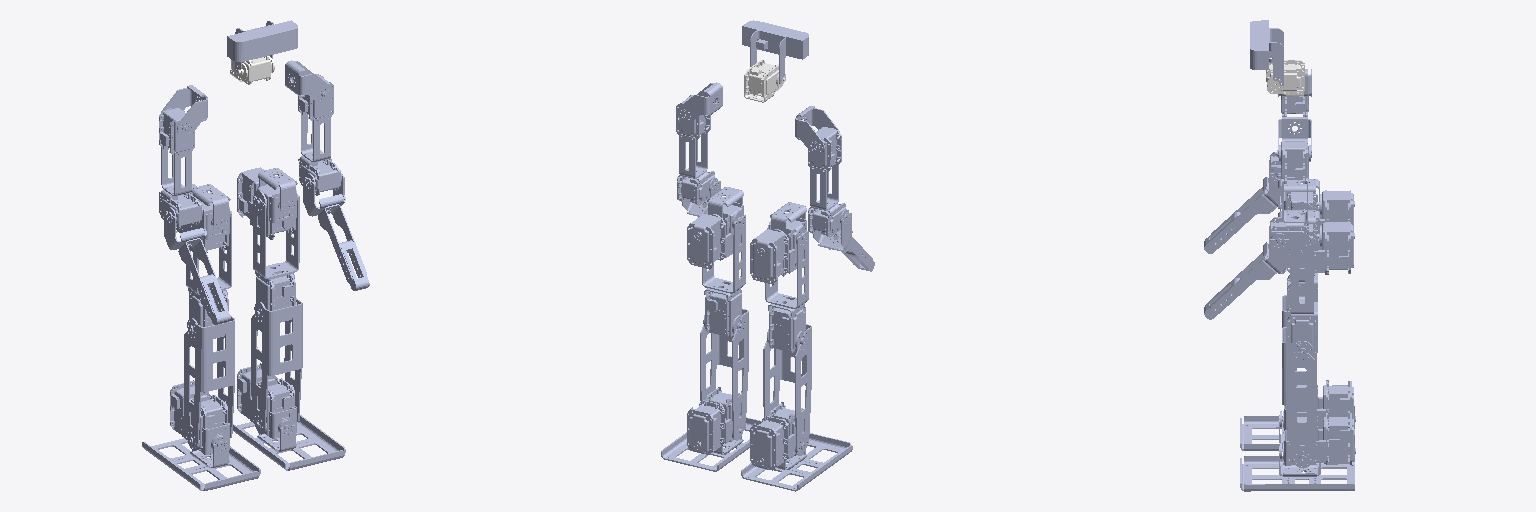
--- What the picture shows (computed from the rendered views, not written in the file) ---
3 views of the same robot in one strip: view 1: azimuth 30°, elevation 25°; view 2: azimuth 150°, elevation 25°; view 3: azimuth 270°, elevation 25° (orthographic).
Robot: full_assemandframe01.SLDASM — 21 links, 20 joints (20 continuous); root link body; default pose: every joint at zero.
Links seen in each view (by area): view 1: L5, R5, AR3, L4, AL3, R7, L7, AL4, AR4, L6, R6, L3 (+8 smaller); view 2: AR3, R5, L4, L5, R4, AL3, R3, L3, R6, L6, R7, H3 (+7 smaller); view 3: L5, L7, L4, AL3, L6, AL4, L3, AR4, R3, H3, R6, R7 (+3 smaller).
Boxes of the visible links, x1,y1,x2,y2 form: L5: (251,298,302,429); R5: (184,315,234,446); AR3: (159,108,203,229); L4: (253,195,299,322); AL3: (298,74,342,195); R7: (142,438,260,490); L7: (233,415,345,470); AL4: (303,175,369,290); AR4: (164,209,230,324); L6: (237,363,296,438); R6: (170,380,229,454); L3: (237,167,297,239); AR3: (808,127,848,237); R5: (763,324,811,451); L4: (702,215,745,336); L5: (700,309,748,436); R4: (765,231,808,352); AL3: (676,95,717,205); R3: (750,218,806,285); L3: (687,202,743,269); R6: (750,402,806,470); L6: (687,387,743,454); R7: (741,433,852,491); H3: (742,20,808,83); L5: (1282,327,1316,460); L7: (1240,446,1354,491); L4: (1287,242,1317,359); AL3: (1270,141,1311,251); L6: (1279,412,1355,467); AL4: (1204,226,1288,319); L3: (1287,222,1354,274); AR4: (1204,160,1281,253); R3: (1280,190,1354,238); H3: (1250,20,1283,85); R6: (1279,380,1355,430); R7: (1240,416,1354,450).
Size in the robot's own frame: 0.2516 by 0.1979 by 0.6097 metres.
Meshes: 21 distinct files referenced, 20 mesh visuals loaded (20 binary STL); not drawn: 1 (reference not matched to a file when rendering).

The robot description file, URDF, robot "full_assemandframe01.SLDASM":
<?xml version="1.0" encoding="utf-8"?>
<!-- This URDF was automatically created by SolidWorks to URDF Exporter! Originally created by Stephen Brawner ([email redacted]) 
     Commit Version: 1.6.0-4-g7f85cfe  Build Version: 1.6.7995.38578
     For more information, please see http://wiki.ros.org/sw_urdf_exporter -->
<robot
  name="full_assemandframe01.SLDASM">
  <link
    name="body">
    <inertial>
      <origin
        xyz="-0.00041783 -0.062352 -0.011079"
        rpy="0 0 0" />
      <mass
        value="1.0275" />
      <inertia
        ixx="0.00096224"
        ixy="-1.7543E-09"
        ixz="-1.3676E-09"
        iyy="0.0014276"
        iyz="-7.2992E-06"
        izz="0.0010373" />
    </inertial>
    <visual>
      <origin
        xyz="0 0 0"
        rpy="0 0 0" />
      <geometry>
        <mesh
          filename="package://meshes/body.STL" />
      </geometry>
      <material
        name="">
        <color
          rgba="0.79216 0.81961 0.93333 1" />
      </material>
    </visual>
    <collision>
      <origin
        xyz="0 0 0"
        rpy="0 0 0" />
      <geometry>
        <mesh
          filename="package://meshes/body.STL" />
      </geometry>
    </collision>
  </link>
  <link
    name="R2">
    <inertial>
      <origin
        xyz="5.1195E-12 -0.007935 0.0049359"
        rpy="0 0 0" />
      <mass
        value="0.0059458" />
      <inertia
        ixx="2.941E-06"
        ixy="-2.483E-16"
        ixz="-3.9623E-15"
        iyy="2.9244E-06"
        iyz="-3.8274E-08"
        izz="9.8493E-07" />
    </inertial>
    <visual>
      <origin
        xyz="0 0 0"
        rpy="0 0 0" />
      <geometry>
        <mesh
          filename="package://meshes/R2.STL" />
      </geometry>
      <material
        name="">
        <color
          rgba="0.79216 0.81961 0.93333 1" />
      </material>
    </visual>
    <collision>
      <origin
        xyz="0 0 0"
        rpy="0 0 0" />
      <geometry>
        <mesh
          filename="package://meshes/R2.STL" />
      </geometry>
    </collision>
  </link>
  <joint
    name="JR1"
    type="continuous">
    <origin
      xyz="-0.049 0.010409 -0.13257"
      rpy="1.5739 0 0" />
    <parent
      link="body" />
    <child
      link="R2" />
    <axis
      xyz="0 1 0" />
  </joint>
  <link
    name="R3">
    <inertial>
      <origin
        xyz="-2.3368E-05 -0.01515 -0.020816"
        rpy="0 0 0" />
      <mass
        value="0.15544" />
      <inertia
        ixx="5.5826E-05"
        ixy="-8.8929E-07"
        ixz="-1.7363E-21"
        iyy="3.4649E-05"
        iyz="-8.7464E-07"
        izz="5.6133E-05" />
    </inertial>
    <visual>
      <origin
        xyz="0 0 0"
        rpy="0 0 0" />
      <geometry>
        <mesh
          filename="package://meshes/R3.STL" />
      </geometry>
      <material
        name="">
        <color
          rgba="0.79216 0.81961 0.93333 1" />
      </material>
    </visual>
    <collision>
      <origin
        xyz="0 0 0"
        rpy="0 0 0" />
      <geometry>
        <mesh
          filename="package://meshes/R3.STL" />
      </geometry>
    </collision>
  </link>
  <joint
    name="JR2"
    type="continuous">
    <origin
      xyz="0 -0.0315 0"
      rpy="0 0 0" />
    <parent
      link="R2" />
    <child
      link="R3" />
    <axis
      xyz="0 0 1" />
  </joint>
  <link
    name="R4">
    <inertial>
      <origin
        xyz="-3.71560602003829E-05 -0.109884425270415 0.0645015204124353"
        rpy="0 0 0" />
      <mass
        value="0.0896499629130446" />
      <inertia
        ixx="4.16009895691136E-05"
        ixy="7.61363341609648E-07"
        ixz="-4.44448874012525E-07"
        iyy="3.2411070646171E-05"
        iyz="1.15463620151377E-05"
        izz="4.57659420239507E-05" />
    </inertial>
    <visual>
      <origin
        xyz="0 0 0"
        rpy="0 0 0" />
      <geometry>
        <mesh
          filename="package://meshes/R4.STL" />
      </geometry>
      <material
        name="">
        <color
          rgba="0.792156862745098 0.819607843137255 0.933333333333333 1" />
      </material>
    </visual>
    <collision>
      <origin
        xyz="0 0 0"
        rpy="0 0 0" />
      <geometry>
        <mesh
          filename="package://meshes/R4.STL" />
      </geometry>
    </collision>
  </link>
  <joint
    name="JR3"
    type="continuous">
    <origin
      xyz="0 0 0"
      rpy="0.5236 0 0" />
    <parent
      link="R3" />
    <child
      link="R4" />
    <axis
      xyz="1 0 0" />
  </joint>
  <link
    name="R5">
    <inertial>
      <origin
        xyz="2.35922392732846E-16 -0.0581603167117033 -0.0234974642851387"
        rpy="0 0 0" />
      <mass
        value="0.0272654512429997" />
      <inertia
        ixx="6.43959167351521E-05"
        ixy="2.27606766001115E-20"
        ixz="4.57758707260766E-20"
        iyy="3.91420033245628E-05"
        iyz="-2.60653220840411E-05"
        izz="5.28423727848243E-05" />
    </inertial>
    <visual>
      <origin
        xyz="0 0 0"
        rpy="0 0 0" />
      <geometry>
        <mesh
          filename="package://meshes/R5.STL" />
      </geometry>
      <material
        name="">
        <color
          rgba="0.792156862745098 0.819607843137255 0.933333333333333 1" />
      </material>
    </visual>
    <collision>
      <origin
        xyz="0 0 0"
        rpy="0 0 0" />
      <geometry>
        <mesh
          filename="package://meshes/R5.STL" />
      </geometry>
    </collision>
  </link>
  <joint
    name="JR4"
    type="continuous">
    <origin
      xyz="0 -0.13373 0.078366"
      rpy="-1.0472 0 0" />
    <parent
      link="R4" />
    <child
      link="R5" />
    <axis
      xyz="1 0 0" />
  </joint>
  <link
    name="R6">
    <inertial>
      <origin
        xyz="-1.94903609577537E-05 0.0144662621171153 -0.0218201673886669"
        rpy="0 0 0" />
      <mass
        value="0.15544328108956" />
      <inertia
        ixx="5.58260684034127E-05"
        ixy="8.73883694619815E-07"
        ixz="-1.06078061493619E-20"
        iyy="3.46492828581795E-05"
        iyz="8.90044715309909E-07"
        izz="5.61332220076912E-05" />
    </inertial>
    <visual>
      <origin
        xyz="0 0 0"
        rpy="0 0 0" />
      <geometry>
        <mesh
          filename="package://meshes/R6.STL" />
      </geometry>
      <material
        name="">
        <color
          rgba="0.792156862745098 0.819607843137255 0.933333333333333 1" />
      </material>
    </visual>
    <collision>
      <origin
        xyz="0 0 0"
        rpy="0 0 0" />
      <geometry>
        <mesh
          filename="package://meshes/R6.STL" />
      </geometry>
    </collision>
  </link>
  <joint
    name="JR5"
    type="continuous">
    <origin
      xyz="0 -0.13423 -0.0775"
      rpy="0.5236 0 0" />
    <parent
      link="R5" />
    <child
      link="R6" />
    <axis
      xyz="1 0 0" />
  </joint>
  <link
    name="R7">
    <inertial>
      <origin
        xyz="-0.0103682525758409 -0.0291524556567055 0.00946030945951293"
        rpy="0 0 0" />
      <mass
        value="0.0293701270577348" />
      <inertia
        ixx="5.27259611745445E-05"
        ixy="-2.48306178311266E-16"
        ixz="3.96226789627106E-15"
        iyy="7.6269660952646E-05"
        iyz="-4.07692845377782E-07"
        izz="2.5034690010458E-05" />
    </inertial>
    <visual>
      <origin
        xyz="0 0 0"
        rpy="0 0 0" />
      <geometry>
        <mesh
          filename="package://meshes/R7.STL" />
      </geometry>
      <material
        name="">
        <color
          rgba="0.792156862745098 0.819607843137255 0.933333333333333 1" />
      </material>
    </visual>
    <collision>
      <origin
        xyz="0 0 0"
        rpy="0 0 0" />
      <geometry>
        <mesh
          filename="package://meshes/R7.STL" />
      </geometry>
    </collision>
  </link>
  <joint
    name="JR6"
    type="continuous">
    <origin
      xyz="0 0 0"
      rpy="0 0 0" />
    <parent
      link="R6" />
    <child
      link="R7" />
    <axis
      xyz="0 0 1" />
  </joint>
  <link
    name="L2">
    <inertial>
      <origin
        xyz="5.11962694460522E-12 -0.00793496897620852 0.00493585010633513"
        rpy="0 0 0" />
      <mass
        value="0.00594575048168081" />
      <inertia
        ixx="2.94097568011264E-06"
        ixy="-2.48305668347206E-16"
        ixz="-3.96228856303345E-15"
        iyy="2.92441644469775E-06"
        iyz="-3.827449871227E-08"
        izz="9.84929527953606E-07" />
    </inertial>
    <visual>
      <origin
        xyz="0 0 0"
        rpy="0 0 0" />
      <geometry>
        <mesh
          filename="package://meshes/L2.STL" />
      </geometry>
      <material
        name="">
        <color
          rgba="0.792156862745098 0.819607843137255 0.933333333333333 1" />
      </material>
    </visual>
    <collision>
      <origin
        xyz="0 0 0"
        rpy="0 0 0" />
      <geometry>
        <mesh
          filename="package://meshes/L2.STL" />
      </geometry>
    </collision>
  </link>
  <joint
    name="JL1"
    type="continuous">
    <origin
      xyz="0.049 0.010409 -0.13257"
      rpy="1.5739 0 0" />
    <parent
      link="body" />
    <child
      link="L2" />
    <axis
      xyz="0 1 0" />
  </joint>
  <link
    name="L3">
    <inertial>
      <origin
        xyz="1.9490360957948E-05 -0.0151499843579775 -0.0208201673886668"
        rpy="0 0 0" />
      <mass
        value="0.15544328108956" />
      <inertia
        ixx="5.58260684034127E-05"
        ixy="8.73883694619815E-07"
        ixz="7.37775671905169E-21"
        iyy="3.46492828581794E-05"
        iyz="-8.90044715309545E-07"
        izz="5.61332220076912E-05" />
    </inertial>
    <visual>
      <origin
        xyz="0 0 0"
        rpy="0 0 0" />
      <geometry>
        <mesh
          filename="package://meshes/L3.STL" />
      </geometry>
      <material
        name="">
        <color
          rgba="0.792156862745098 0.819607843137255 0.933333333333333 1" />
      </material>
    </visual>
    <collision>
      <origin
        xyz="0 0 0"
        rpy="0 0 0" />
      <geometry>
        <mesh
          filename="package://meshes/L3.STL" />
      </geometry>
    </collision>
  </link>
  <joint
    name="JL2"
    type="continuous">
    <origin
      xyz="0 -0.0315 0"
      rpy="0 0 0" />
    <parent
      link="L2" />
    <child
      link="L3" />
    <axis
      xyz="0 0 1" />
  </joint>
  <link
    name="L4">
    <inertial>
      <origin
        xyz="3.71560602005702E-05 0.0630194871166001 0.104414323766192"
        rpy="0 0 0" />
      <mass
        value="0.0896499629130445" />
      <inertia
        ixx="4.16009895691135E-05"
        ixy="5.02197314697276E-07"
        ixz="7.24573527441376E-07"
        iyy="4.36739646160413E-05"
        iyz="-1.25252037868802E-05"
        izz="3.45030480540803E-05" />
    </inertial>
    <visual>
      <origin
        xyz="0 0 0"
        rpy="0 0 0" />
      <geometry>
        <mesh
          filename="package://meshes/L4.STL" />
      </geometry>
      <material
        name="">
        <color
          rgba="0.792156862745098 0.819607843137255 0.933333333333333 1" />
      </material>
    </visual>
    <collision>
      <origin
        xyz="0 0 0"
        rpy="0 0 0" />
      <geometry>
        <mesh
          filename="package://meshes/L4.STL" />
      </geometry>
    </collision>
  </link>
  <joint
    name="JL3"
    type="continuous">
    <origin
      xyz="0 -0.0057358 0.0091915"
      rpy="2.1817 0 0" />
    <parent
      link="L3" />
    <child
      link="L4" />
    <axis
      xyz="1 0 0" />
  </joint>
  <link
    name="L5">
    <inertial>
      <origin
        xyz="4.85722573273506E-16 -0.0183390437380094 0.0599869380999931"
        rpy="0 0 0" />
      <mass
        value="0.0272654512429999" />
      <inertia
        ixx="6.43959167351525E-05"
        ixy="6.5837365657827E-20"
        ixz="-1.38536606830353E-19"
        iyy="5.72644987666864E-05"
        iyz="2.44798091780557E-05"
        izz="3.47198773427011E-05" />
    </inertial>
    <visual>
      <origin
        xyz="0 0 0"
        rpy="0 0 0" />
      <geometry>
        <mesh
          filename="package://meshes/L5.STL" />
      </geometry>
      <material
        name="">
        <color
          rgba="0.792156862745098 0.819607843137255 0.933333333333333 1" />
      </material>
    </visual>
    <collision>
      <origin
        xyz="0 0 0"
        rpy="0 0 0" />
      <geometry>
        <mesh
          filename="package://meshes/L5.STL" />
      </geometry>
    </collision>
  </link>
  <joint
    name="JL4"
    type="continuous">
    <origin
      xyz="0 0.078904 0.12697"
      rpy="-1.0472 0 0" />
    <parent
      link="L4" />
    <child
      link="L5" />
    <axis
      xyz="1 0 0" />
  </joint>
  <link
    name="L6">
    <inertial>
      <origin
        xyz="2.33682225148149E-05 -0.0229940897785377 -0.0125097987045415"
        rpy="0 0 0" />
      <mass
        value="0.15544328108956" />
      <inertia
        ixx="5.58260684034126E-05"
        ixy="7.75063095128782E-08"
        ixz="8.85901171526323E-07"
        iyy="5.58181471321927E-05"
        iyz="-2.72667897496436E-06"
        izz="3.49643577336778E-05" />
    </inertial>
    <visual>
      <origin
        xyz="0 0 0"
        rpy="0 0 0" />
      <geometry>
        <mesh
          filename="package://meshes/L6.STL" />
      </geometry>
      <material
        name="">
        <color
          rgba="0.792156862745098 0.819607843137255 0.933333333333333 1" />
      </material>
    </visual>
    <collision>
      <origin
        xyz="0 0 0"
        rpy="0 0 0" />
      <geometry>
        <mesh
          filename="package://meshes/L6.STL" />
      </geometry>
    </collision>
  </link>
  <joint
    name="JL5"
    type="continuous">
    <origin
      xyz="0 -0.065506 0.14048"
      rpy="0.5236 0 0" />
    <parent
      link="L5" />
    <child
      link="L6" />
    <axis
      xyz="1 0 0" />
  </joint>
  <link
    name="L7">
    <inertial>
      <origin
        xyz="0.0103682525737677 0.0119651140515537 0.0282170014639998"
        rpy="0 0 0" />
      <mass
        value="0.0293701270577349" />
      <inertia
        ixx="5.27259611745444E-05"
        ixy="3.96875464577063E-15"
        ixz="-9.79294087641099E-17"
        iyy="2.54946722965885E-05"
        iyz="4.84992874343962E-06"
        izz="7.58096786665151E-05" />
    </inertial>
    <visual>
      <origin
        xyz="0 0 0"
        rpy="0 0 0" />
      <geometry>
        <mesh
          filename="package://meshes/L7.STL" />
      </geometry>
      <material
        name="">
        <color
          rgba="0.792156862745098 0.819607843137255 0.933333333333333 1" />
      </material>
    </visual>
    <collision>
      <origin
        xyz="0 0 0"
        rpy="0 0 0" />
      <geometry>
        <mesh
          filename="package://meshes/L7.STL" />
      </geometry>
    </collision>
  </link>
  <joint
    name="JL6"
    type="continuous">
    <origin
      xyz="0 0 0"
      rpy="0 0 0" />
    <parent
      link="L6" />
    <child
      link="L7" />
    <axis
      xyz="0 0.99619 -0.087156" />
  </joint>
  <link
    name="AR2">
    <inertial>
      <origin
        xyz="-0.0122215328030043 -0.00304504079535874 0.00046755664416805"
        rpy="0 0 0" />
      <mass
        value="0.00782111452958767" />
      <inertia
        ixx="3.46730290731849E-06"
        ixy="-3.56887654541805E-07"
        ixz="5.47990011683571E-08"
        iyy="3.44521472170541E-06"
        iyz="-2.06144819144966E-07"
        izz="2.13431503339268E-06" />
    </inertial>
    <visual>
      <origin
        xyz="0 0 0"
        rpy="0 0 0" />
      <geometry>
        <mesh
          filename="package://meshes/AR2.STL" />
      </geometry>
      <material
        name="">
        <color
          rgba="0.792156862745098 0.819607843137255 0.933333333333333 1" />
      </material>
    </visual>
    <collision>
      <origin
        xyz="0 0 0"
        rpy="0 0 0" />
      <geometry>
        <mesh
          filename="package://meshes/AR2.STL" />
      </geometry>
    </collision>
  </link>
  <joint
    name="JAR1"
    type="continuous">
    <origin
      xyz="-0.0665 0 -0.0001"
      rpy="1.7262 0 0" />
    <parent
      link="body" />
    <child
      link="AR2" />
    <axis
      xyz="1 0 0" />
  </joint>
  <link
    name="AR3">
    <inertial>
      <origin
        xyz="-0.0217424355782832 -0.0598709237463328 0.0138089346841776"
        rpy="0 0 0" />
      <mass
        value="0.097623535640491" />
      <inertia
        ixx="2.66927650742415E-05"
        ixy="-1.51414262049176E-06"
        ixz="-2.59340162798032E-07"
        iyy="2.29946667509428E-05"
        iyz="-4.51570937003064E-07"
        izz="2.16812046230082E-05" />
    </inertial>
    <visual>
      <origin
        xyz="0 0 0"
        rpy="0 0 0" />
      <geometry>
        <mesh
          filename="package://meshes/AR3.STL" />
      </geometry>
      <material
        name="">
        <color
          rgba="0.792156862745098 0.819607843137255 0.933333333333333 1" />
      </material>
    </visual>
    <collision>
      <origin
        xyz="0 0 0"
        rpy="0 0 0" />
      <geometry>
        <mesh
          filename="package://meshes/AR3.STL" />
      </geometry>
    </collision>
  </link>
  <joint
    name="JAR2"
    type="continuous">
    <origin
      xyz="-0.035 -0.019768322112152 0.00303536503079964"
      rpy="0.00863677948697105 0.0507435699806214 0.337108707096089" />
    <parent
      link="AR2" />
    <child
      link="AR3" />
    <axis
      xyz="0 0.151768251539982 0.988416105607601" />
  </joint>
  <link
    name="AR4">
    <inertial>
      <origin
        xyz="-0.0264395498118501 -0.0719680840946816 0.0249388613374165"
        rpy="0 0 0" />
      <mass
        value="0.0261806235165505" />
      <inertia
        ixx="1.29434109350166E-05"
        ixy="-2.0730856844392E-06"
        ixz="1.53907500063378E-06"
        iyy="8.49936634440967E-06"
        iyz="4.30753226979961E-06"
        izz="1.32076307428004E-05" />
    </inertial>
    <visual>
      <origin
        xyz="0 0 0"
        rpy="0 0 0" />
      <geometry>
        <mesh
          filename="package://meshes/AR4.STL" />
      </geometry>
      <material
        name="">
        <color
          rgba="0.792156862745098 0.819607843137255 0.933333333333333 1" />
      </material>
    </visual>
    <collision>
      <origin
        xyz="0 0 0"
        rpy="0 0 0" />
      <geometry>
        <mesh
          filename="package://meshes/AR4.STL" />
      </geometry>
    </collision>
  </link>
  <joint
    name="JAR3"
    type="continuous">
    <origin
      xyz="-0.0391688936407426 -0.105994321647765 0.0375212146577176"
      rpy="-0.401595058674256 0.131487536773221 -0.0485277151924821" />
    <parent
      link="AR3" />
    <child
      link="AR4" />
    <axis
      xyz="0.942500202763317 -0.330334175028508 0.0507217960973566" />
  </joint>
  <link
    name="AL2">
    <inertial>
      <origin
        xyz="0.0122215328030043 -0.00306297937268113 -0.000330212088565167"
        rpy="0 0 0" />
      <mass
        value="0.00782111452958769" />
      <inertia
        ixx="3.46730290731849E-06"
        ixy="3.58990108077455E-07"
        ixz="3.87018190261986E-08"
        iyy="3.46107948276651E-06"
        iyz="1.46447551999455E-07"
        izz="2.11845027233158E-06" />
    </inertial>
    <visual>
      <origin
        xyz="0 0 0"
        rpy="0 0 0" />
      <geometry>
        <mesh
          filename="package://meshes/AL2.STL" />
      </geometry>
      <material
        name="">
        <color
          rgba="0.792156862745098 0.819607843137255 0.933333333333333 1" />
      </material>
    </visual>
    <collision>
      <origin
        xyz="0 0 0"
        rpy="0 0 0" />
      <geometry>
        <mesh
          filename="package://meshes/AL2.STL" />
      </geometry>
    </collision>
  </link>
  <joint
    name="JAL1"
    type="continuous">
    <origin
      xyz="0.0665 0 -0.0001"
      rpy="1.4665 0 0" />
    <parent
      link="body" />
    <child
      link="AL2" />
    <axis
      xyz="1 0 0" />
  </joint>
  <link
    name="AL3">
    <inertial>
      <origin
        xyz="0.00729277157235911 -0.0647229266668686 -0.00238871067636881"
        rpy="0 0 0" />
      <mass
        value="0.097623535640491" />
      <inertia
        ixx="2.71510597381538E-05"
        ixy="5.4954535768441E-07"
        ixz="-2.77333925095466E-07"
        iyy="2.27195249459817E-05"
        iyz="-2.99771975663198E-07"
        izz="2.14980517640569E-05" />
    </inertial>
    <visual>
      <origin
        xyz="0 0 0"
        rpy="0 0 0" />
      <geometry>
        <mesh
          filename="package://meshes/AL3.STL" />
      </geometry>
      <material
        name="">
        <color
          rgba="0.792156862745098 0.819607843137255 0.933333333333333 1" />
      </material>
    </visual>
    <collision>
      <origin
        xyz="0 0 0"
        rpy="0 0 0" />
      <geometry>
        <mesh
          filename="package://meshes/AL3.STL" />
      </geometry>
    </collision>
  </link>
  <joint
    name="JAL2"
    type="continuous">
    <origin
      xyz="0.035 -0.0198847788687522 -0.00214372790736723"
      rpy="-0.000675234731490389 0.0120468245174906 -0.111983173268338" />
    <parent
      link="AL2" />
    <child
      link="AL3" />
    <axis
      xyz="0 0.107186395368361 -0.994238943437611" />
  </joint>
  <link
    name="AL4">
    <inertial>
      <origin
        xyz="0.00913578295485759 -0.0801031112896214 -0.000656322210190963"
        rpy="0 0 0" />
      <mass
        value="0.0261806235165505" />
      <inertia
        ixx="1.36552226908737E-05"
        ixy="8.94157570011036E-07"
        ixz="-2.43003115857642E-07"
        iyy="5.58775082486857E-06"
        iyz="1.98253938483778E-06"
        izz="1.54074345064843E-05" />
    </inertial>
    <visual>
      <origin
        xyz="0 0 0"
        rpy="0 0 0" />
      <geometry>
        <mesh
          filename="package://meshes/AL4.STL" />
      </geometry>
      <material
        name="">
        <color
          rgba="0.792156862745098 0.819607843137255 0.933333333333333 1" />
      </material>
    </visual>
    <collision>
      <origin
        xyz="0 0 0"
        rpy="0 0 0" />
      <geometry>
        <mesh
          filename="package://meshes/AL4.STL" />
      </geometry>
    </collision>
  </link>
  <joint
    name="JAL3"
    type="continuous">
    <origin
      xyz="0.0131719485348661 -0.118037455358604 0.00839636256129469"
      rpy="-0.491746944547984 -0.0544973559727831 0.00759729409276157" />
    <parent
      link="AL3" />
    <child
      link="AL4" />
    <axis
      xyz="0.993664326490195 0.111741162067576 0.0120465331350887" />
  </joint>
  <link
    name="H2">
    <inertial>
      <origin
        xyz="0 0 0"
        rpy="0 0 0" />
      <mass
        value="0" />
      <inertia
        ixx="0"
        ixy="0"
        ixz="0"
        iyy="0"
        iyz="0"
        izz="0" />
    </inertial>
    <visual>
      <origin
        xyz="0 0 0"
        rpy="0 0 0" />
      <geometry>
        <mesh
          filename="package://meshes/H2.STL" />
      </geometry>
      <material
        name="">
        <color
          rgba="1 1 1 1" />
      </material>
    </visual>
    <collision>
      <origin
        xyz="0 0 0"
        rpy="0 0 0" />
      <geometry>
        <mesh
          filename="package://meshes/H2.STL" />
      </geometry>
    </collision>
  </link>
  <joint
    name="JH1"
    type="continuous">
    <origin
      xyz="0 -6.32106971754079E-05 0.0204999025462992"
      rpy="1.57335367827389 0.00172268556231549 -0.592800435653726" />
    <parent
      link="body" />
    <child
      link="H2" />
    <axis
      xyz="0 1 0" />
  </joint>
  <link
    name="H3">
    <inertial>
      <origin
        xyz="0.036913632495691 -0.0261315077775538 0.0562881107039803"
        rpy="0 0 0" />
      <mass
        value="0.070189548920754" />
      <inertia
        ixx="2.26120241044407E-05"
        ixy="-3.16435657178402E-07"
        ixz="1.97667380621252E-05"
        iyy="5.32373444792001E-05"
        iyz="2.57216251711595E-08"
        izz="3.82682129648946E-05" />
    </inertial>
    <visual>
      <origin
        xyz="0 0 0"
        rpy="0 0 0" />
      <geometry>
        <mesh
          filename="package://meshes/H3.STL" />
      </geometry>
      <material
        name="">
        <color
          rgba="0.792156862745098 0.819607843137255 0.933333333333333 1" />
      </material>
    </visual>
    <collision>
      <origin
        xyz="0 0 0"
        rpy="0 0 0" />
      <geometry>
        <mesh
          filename="package://meshes/H3.STL" />
      </geometry>
    </collision>
  </link>
  <joint
    name="JH2"
    type="continuous">
    <origin
      xyz="0 0.01 0"
      rpy="-0.995509566645158 0.333454125428357 0.600667945155879" />
    <parent
      link="H2" />
    <child
      link="H3" />
    <axis
      xyz="0.829378138941034 0 -0.558687661083281" />
  </joint>
</robot>
